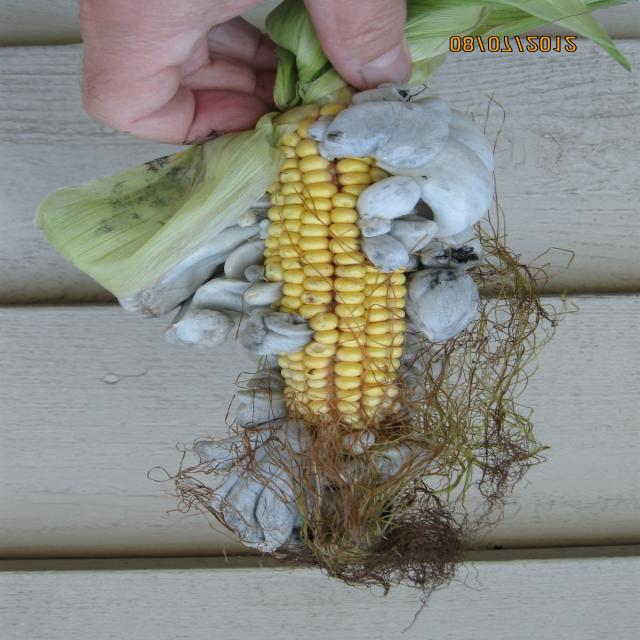Leaf_Scald: (107, 63, 582, 594)
